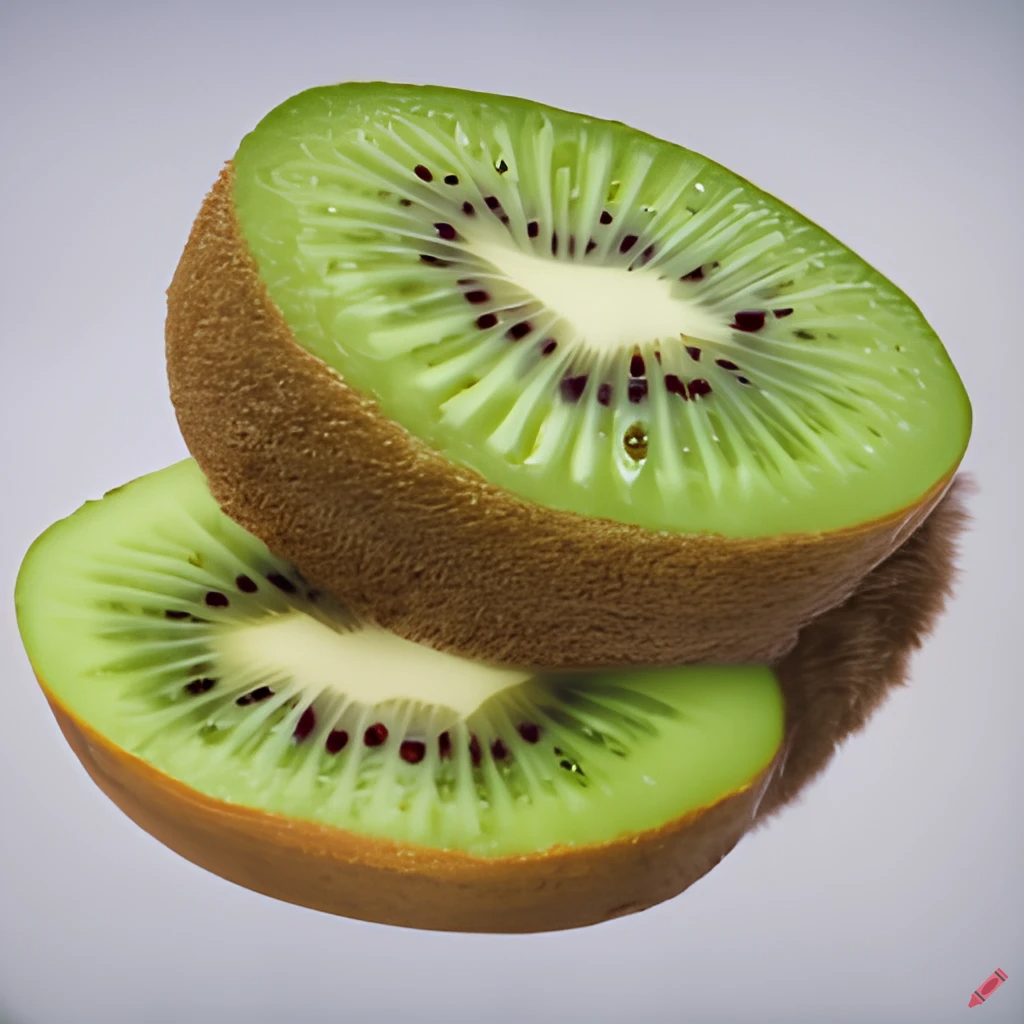Kiwi: (121, 40, 988, 678)
